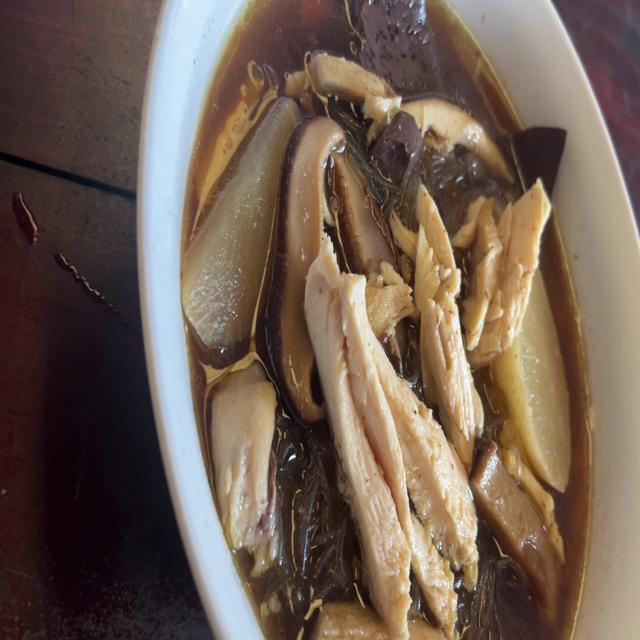noodle: (346, 0, 436, 99), (516, 118, 561, 190), (378, 115, 422, 186)
